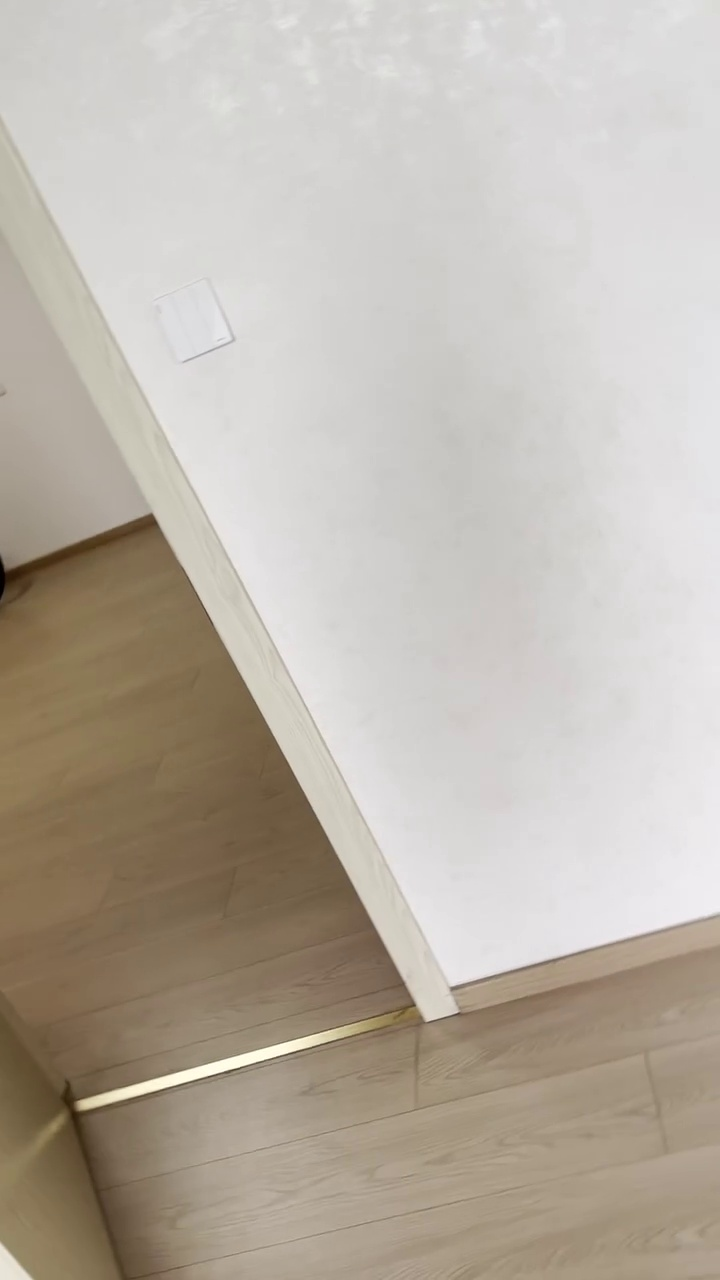button: (149, 276, 238, 363)
